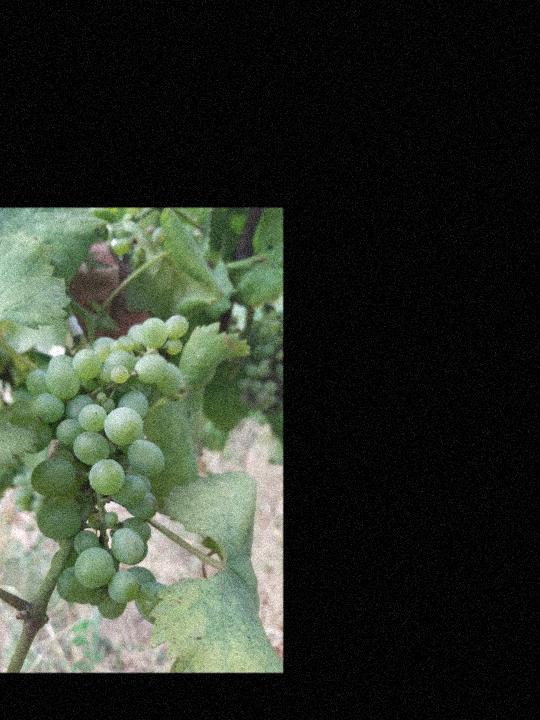grape: (9, 313, 191, 621)
